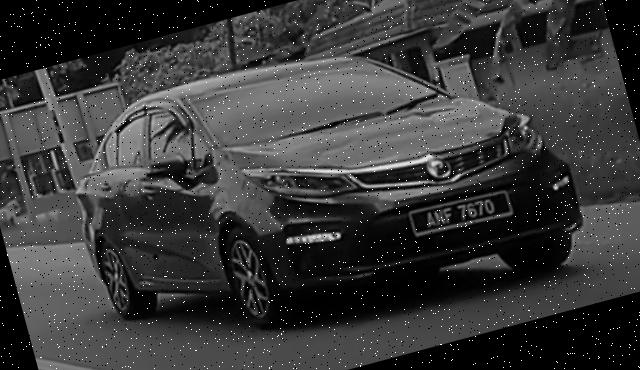License_Plate: (407, 184, 516, 241)
car: (49, 1, 595, 370)
